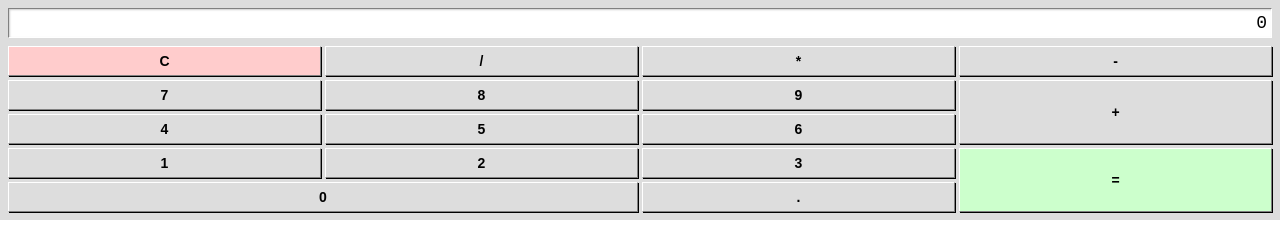
Test: Calculator › Number Input › inputs single digit correctly
What coordinates should you click on to do the following:
click the button with test id "btn-5"
I would click on:
 (482, 129)
Its box is [325,114,638,144].
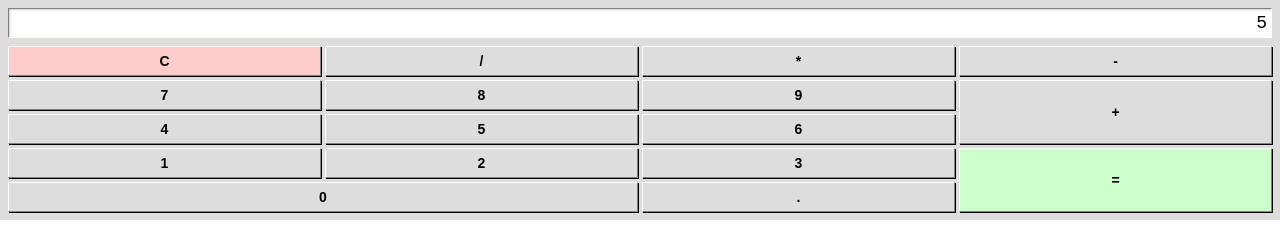
Expected: the text with test id "display" reads "5", [1256,13,1267,33]
